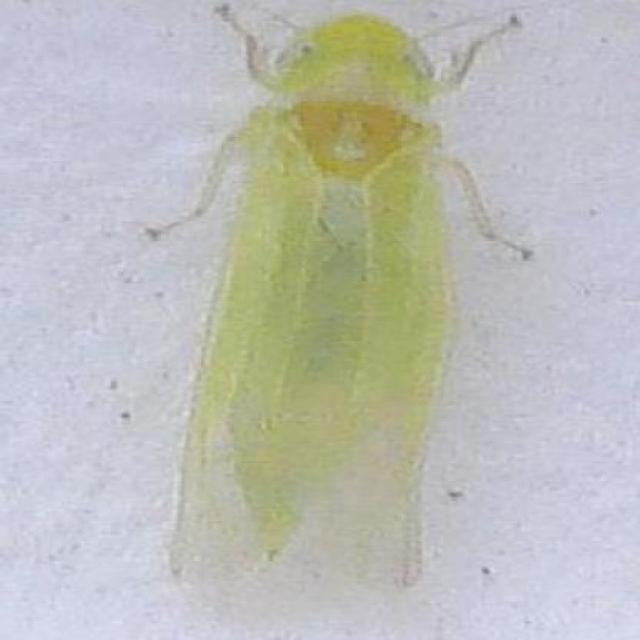green-leafhopper: (182, 12, 523, 580)
